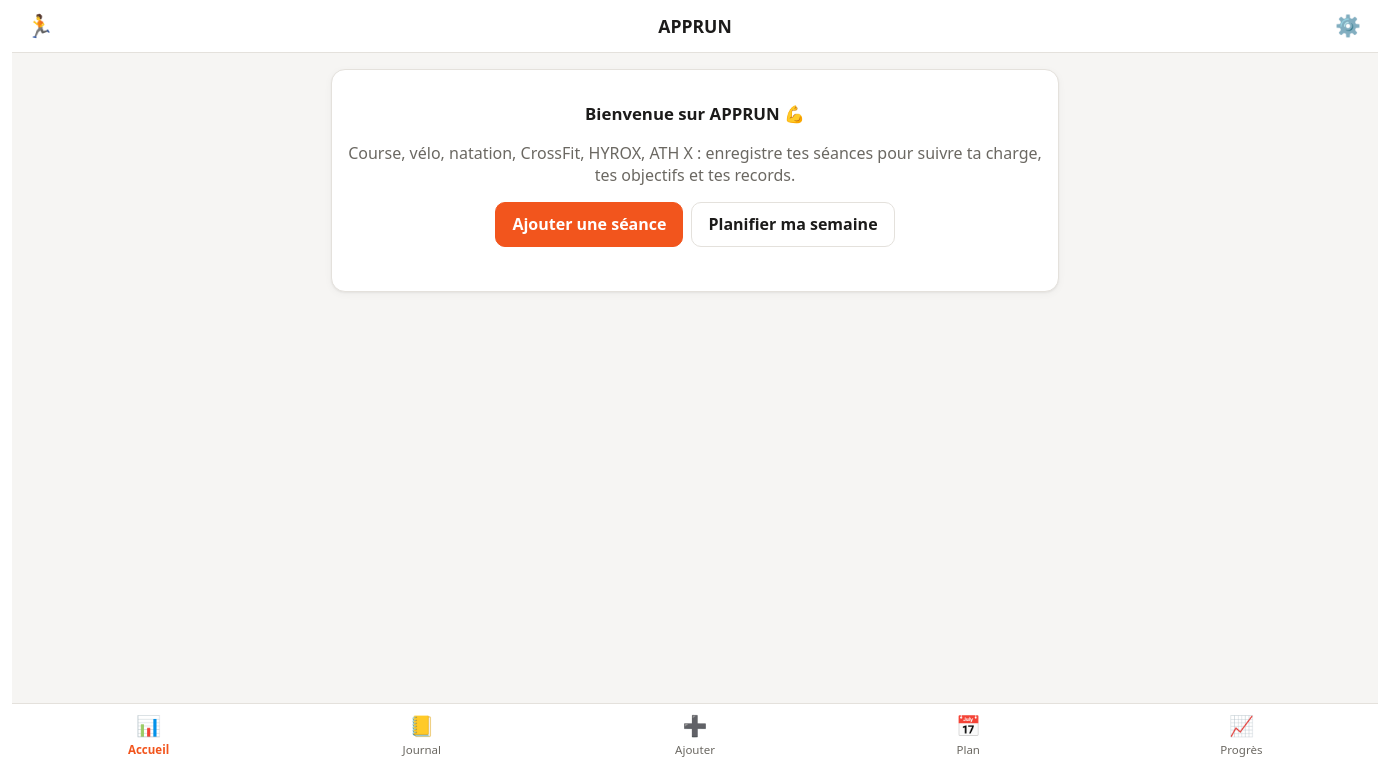
Test: App › affiche l'accueil vide puis le choix du sport
The image size is (1390, 768).
Expected: the heading "Bienvenue sur APPRUN 💪" is shown, top-left (585, 102), bottom-right (805, 125)
Click the button "Ajouter une séance".
click(589, 224)  # box top-left (495, 202), bottom-right (684, 247)
(page scrolled)
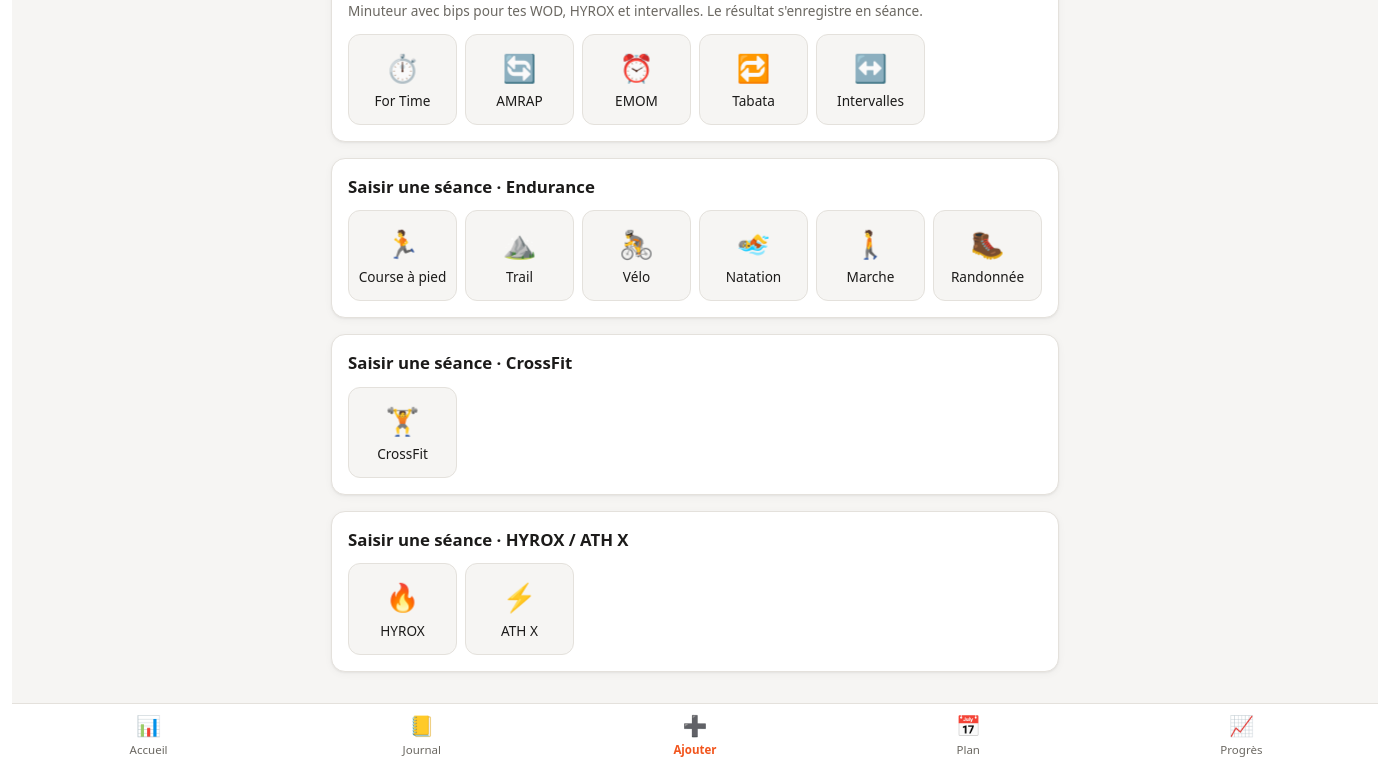
Expected: the button "🔥 HYROX" is shown, top-left (348, 564), bottom-right (457, 655)
Expected: the number of buttons "Course à pied" is 2
